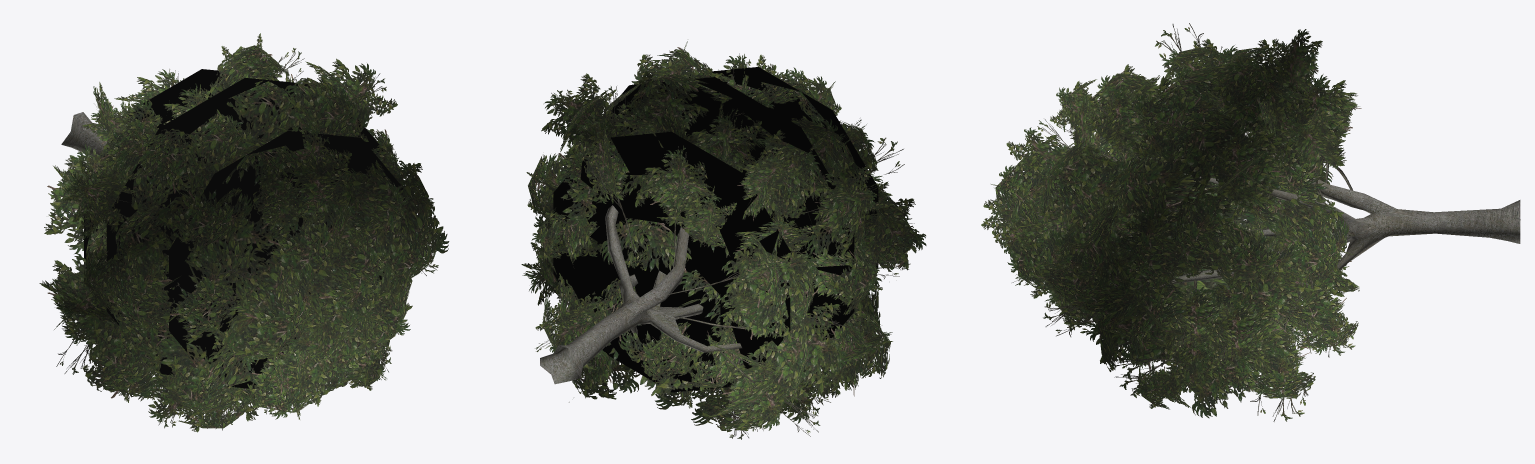
The model's file is nt_tree_ficus_lrg_01_LOD0.obj.
3 views of the same model, side by side, from view 1: azimuth 30°, elevation 25°; view 2: azimuth 150°, elevation 25°; view 3: azimuth 270°, elevation 25° (orthographic). The views are drawn at different scales.
Visible parts, largest first — view 1: mtl_p6_tree_ficus_lrg_01_foliage_noshadow, t5_foliage_tree_standard_gobo_128, mtl_p6_tree_ficus_lrg_01_bark1; view 2: mtl_p6_tree_ficus_lrg_01_foliage_noshadow, t5_foliage_tree_standard_gobo_128, mtl_p6_tree_ficus_lrg_01_bark1; view 3: mtl_p6_tree_ficus_lrg_01_foliage_noshadow, mtl_p6_tree_ficus_lrg_01_bark1.
Part boxes in pixels (<box>): mtl_p6_tree_ficus_lrg_01_foliage_noshadow: <box>39,33,449,432</box>; t5_foliage_tree_standard_gobo_128: <box>84,69,406,390</box>; mtl_p6_tree_ficus_lrg_01_bark1: <box>61,112,108,157</box>; mtl_p6_tree_ficus_lrg_01_foliage_noshadow: <box>521,41,926,439</box>; t5_foliage_tree_standard_gobo_128: <box>553,67,878,392</box>; mtl_p6_tree_ficus_lrg_01_bark1: <box>540,205,741,384</box>; mtl_p6_tree_ficus_lrg_01_foliage_noshadow: <box>981,23,1361,421</box>; mtl_p6_tree_ficus_lrg_01_bark1: <box>1160,128,1520,294</box>.
Size of the model in its own units: 1062 by 1071 by 1437.
